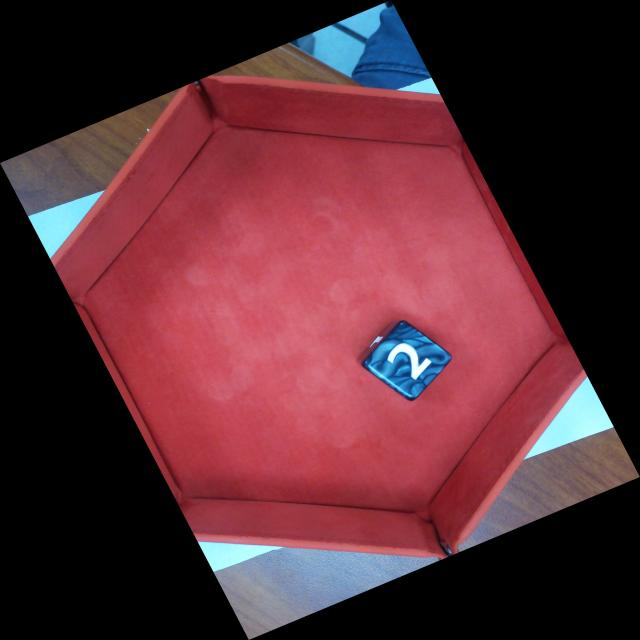dice: (359, 317, 454, 403)
